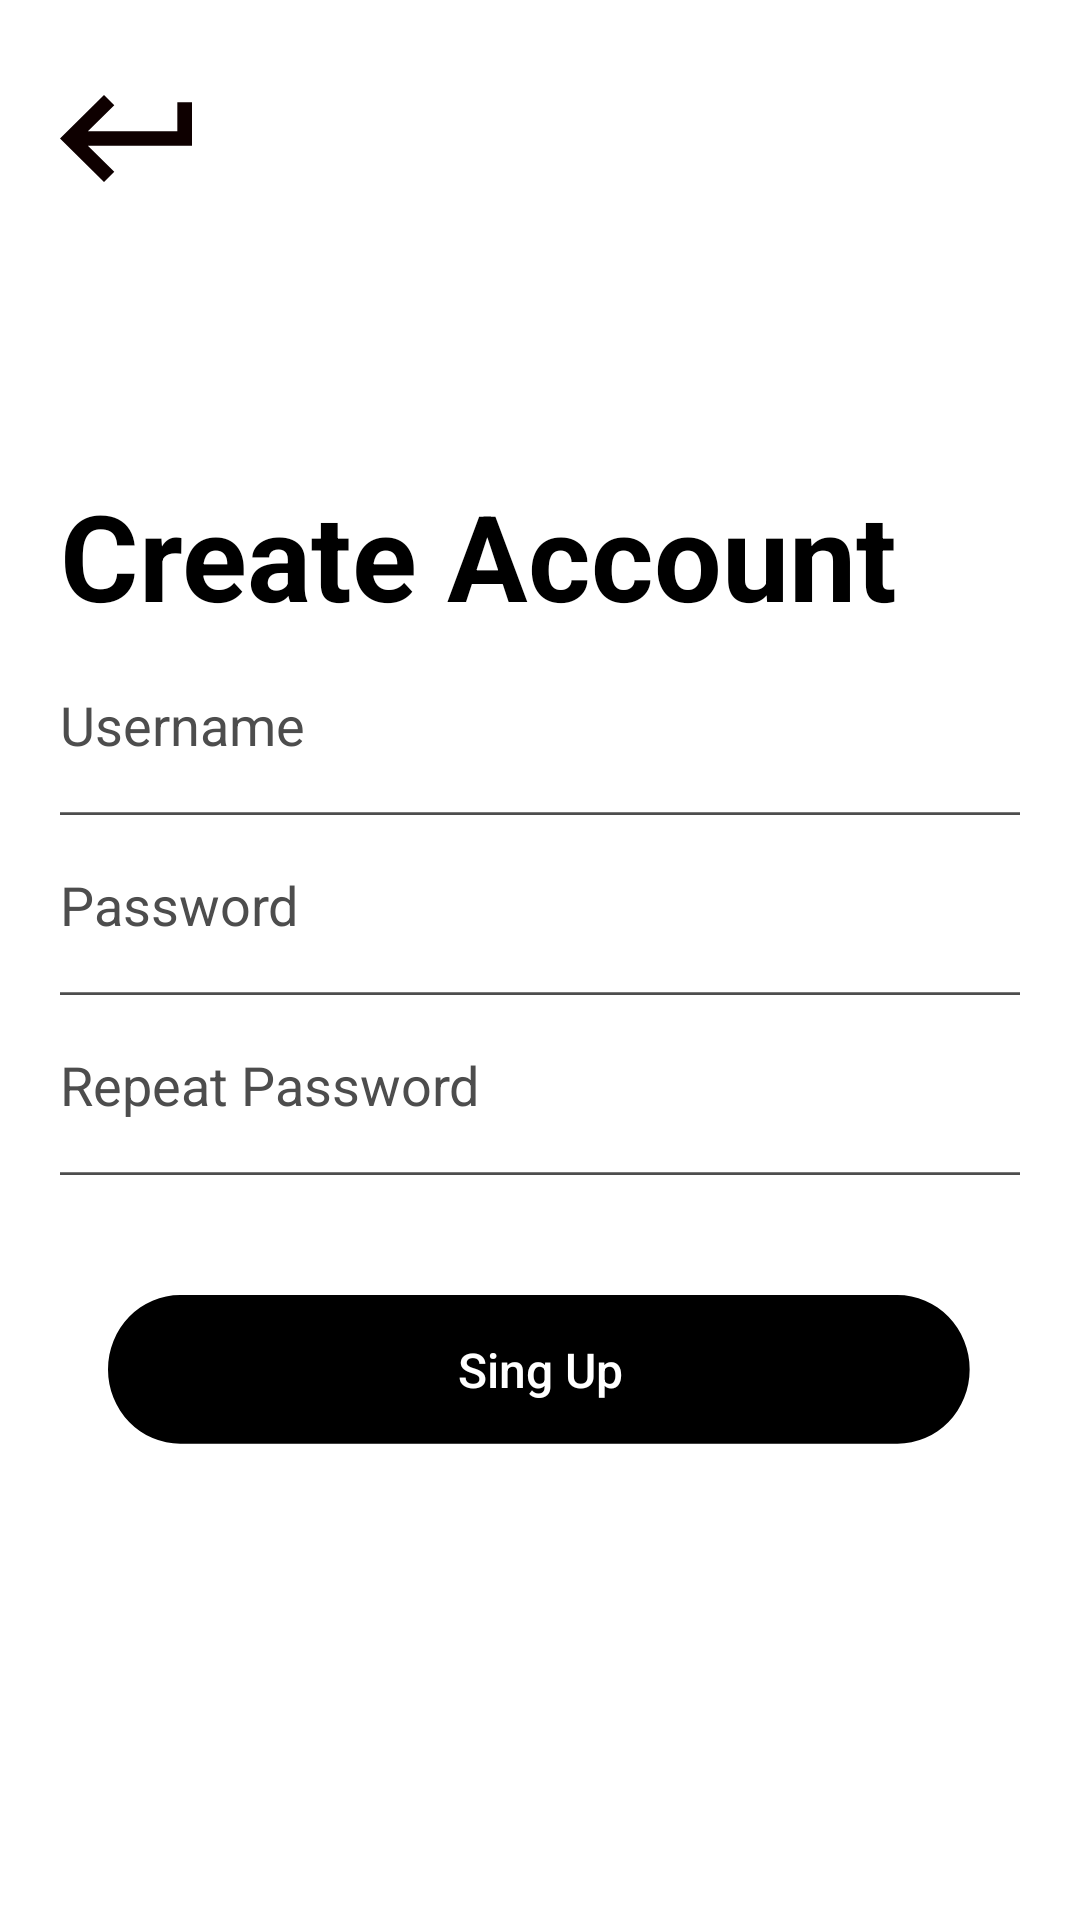

Named icons in this screenshot (1080w x 1920h) and their bounding boxes, (x1, y1, x2, y2):
Return to main window: (60, 95, 192, 182)
